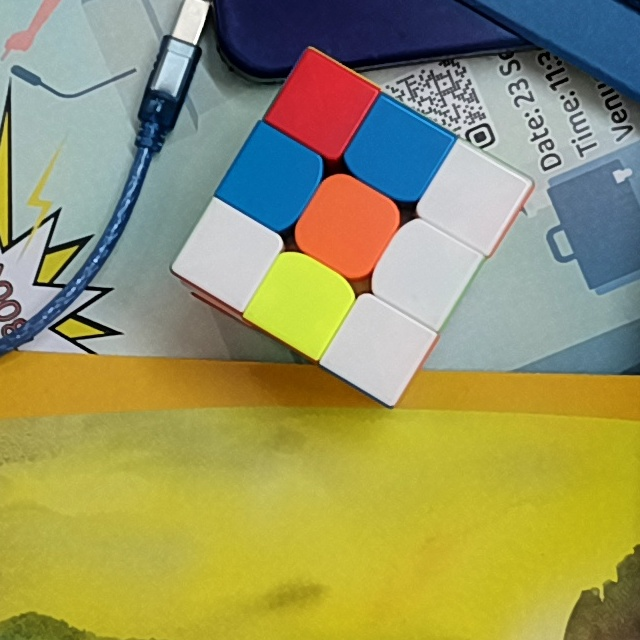tile: (392, 240, 454, 304), (317, 195, 378, 255), (366, 122, 425, 184), (346, 320, 408, 377), (270, 274, 332, 330), (247, 148, 303, 207), (200, 227, 256, 286), (447, 169, 501, 230), (295, 76, 352, 133)
